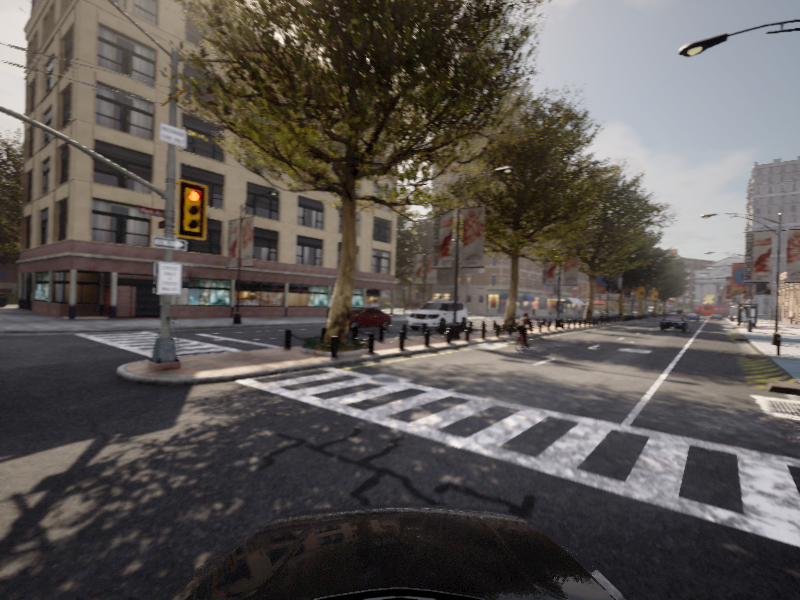vehicle: (404, 299, 472, 333), (325, 306, 396, 332), (509, 312, 538, 353), (659, 315, 688, 332)
